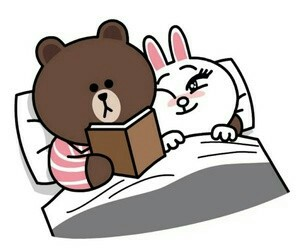line_brown: (23, 16, 161, 137)
